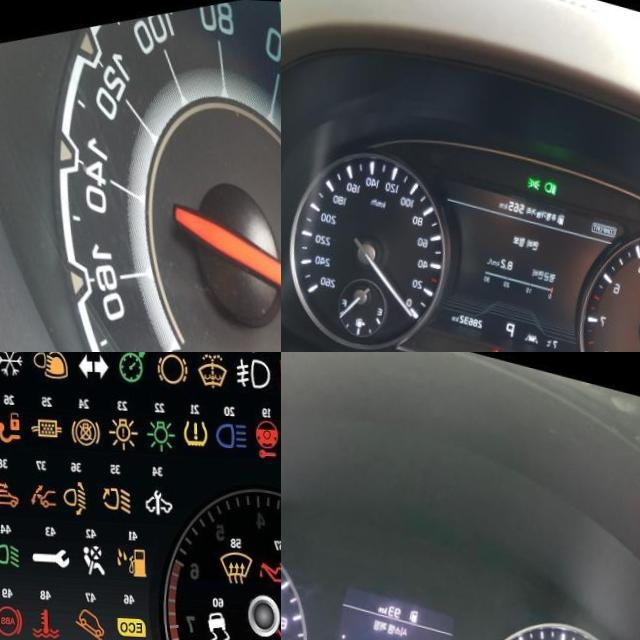Low beam: (543, 175, 558, 192)
SideLamp: (525, 170, 543, 187)
